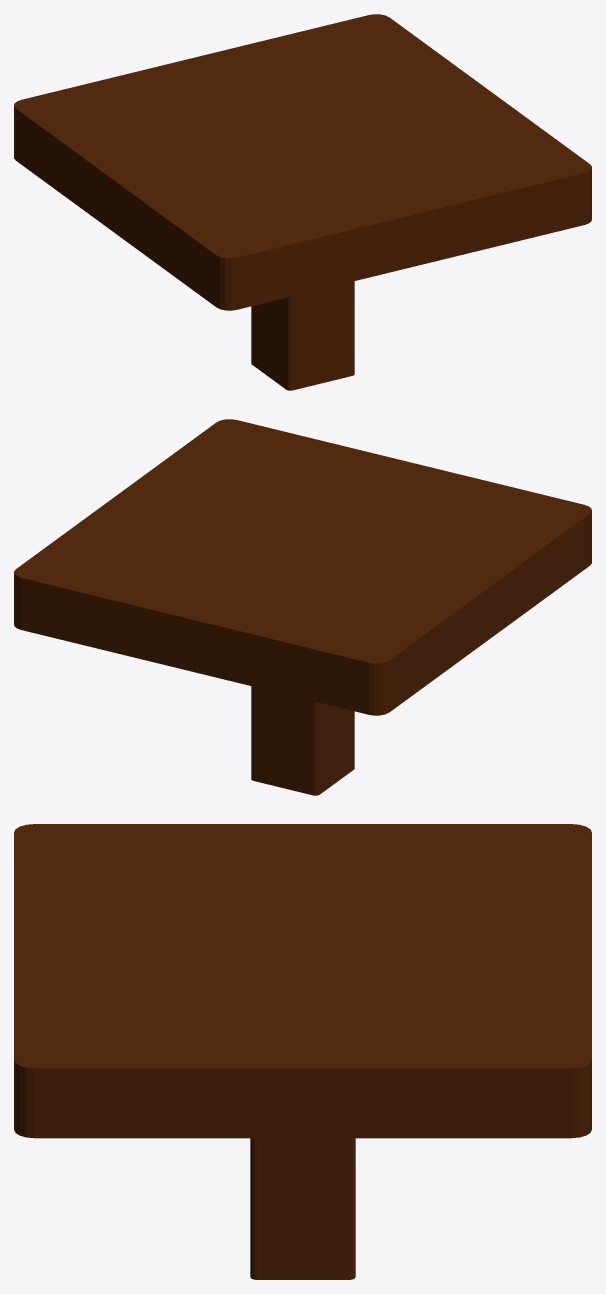
Rendered from CustomerTable.fbx.
3 views of the same model, one above another, from view 1: azimuth 30°, elevation 25°; view 2: azimuth 150°, elevation 25°; view 3: azimuth 270°, elevation 25° (orthographic). The views are drawn at different scales.
Parts seen in each view (by area): view 1: Table; view 2: Table; view 3: Table.
Part boxes in pixels (<box>): Table: <box>14,14,591,390</box>; Table: <box>14,419,591,795</box>; Table: <box>14,824,591,1279</box>.
Size of the model in its own units: 4.34 by 2.58 by 4.34.
